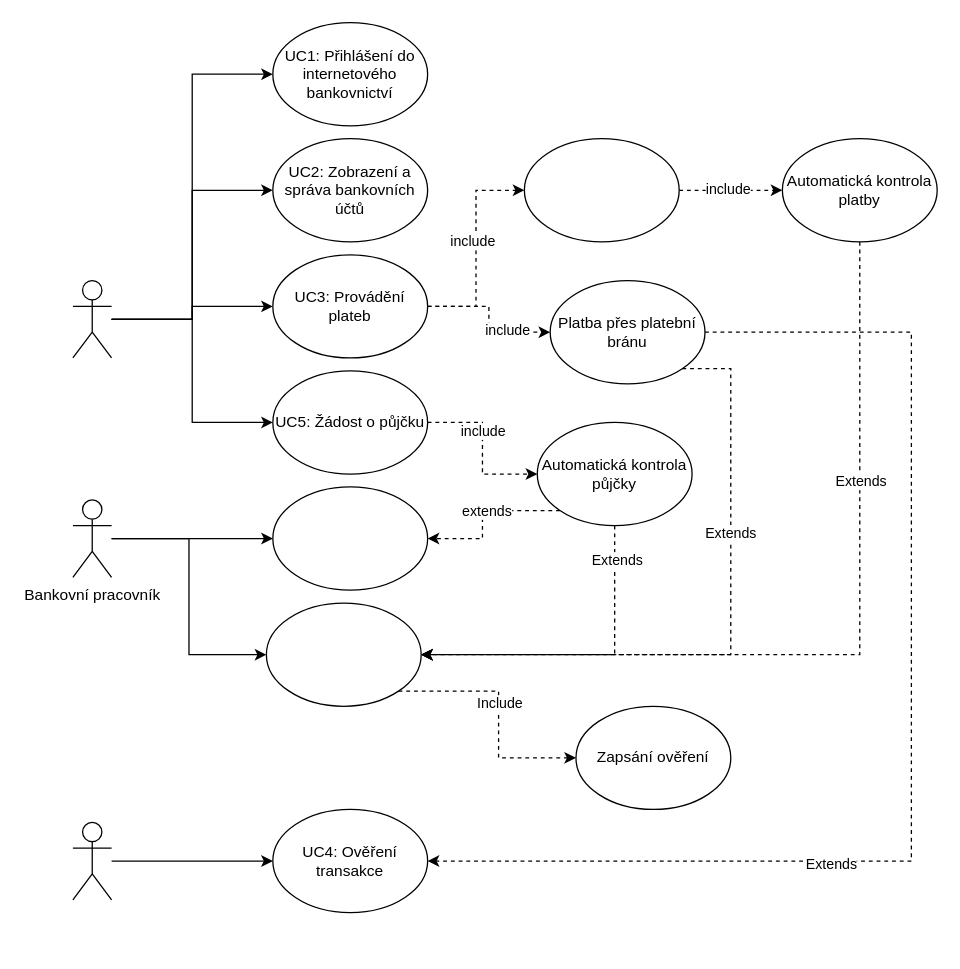
Image size: 960x969. Some labels were removed from this diagram. Here are the shapes that lost their labels. From the top down, the centre of each, then its label:
At [601,189]: "Převod".
At [92,318]: "Zákazník".
At [350,538]: "UC6: Schválení půjčky".
At [343,654]: "UC7: Ověření vysoké transakce".
At [92,860]: "Externí poskytovatel platebních služeb".
